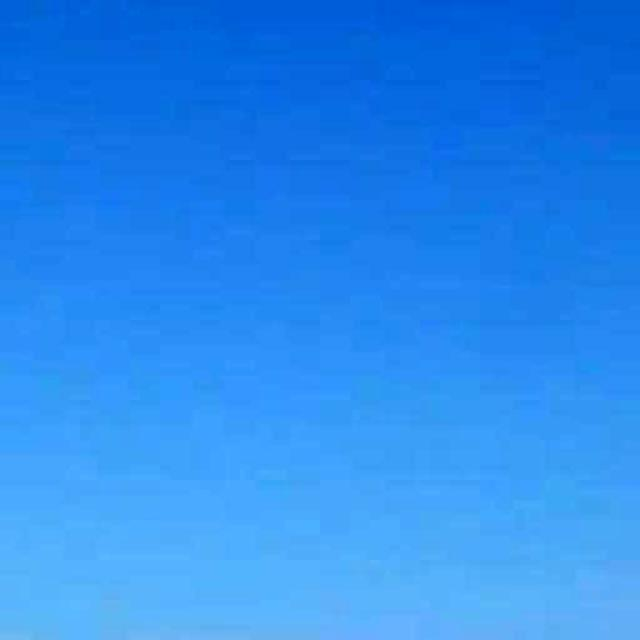drone: (491, 502, 551, 580)
